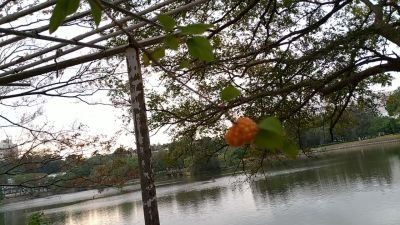eggs: (225, 115, 261, 148)
